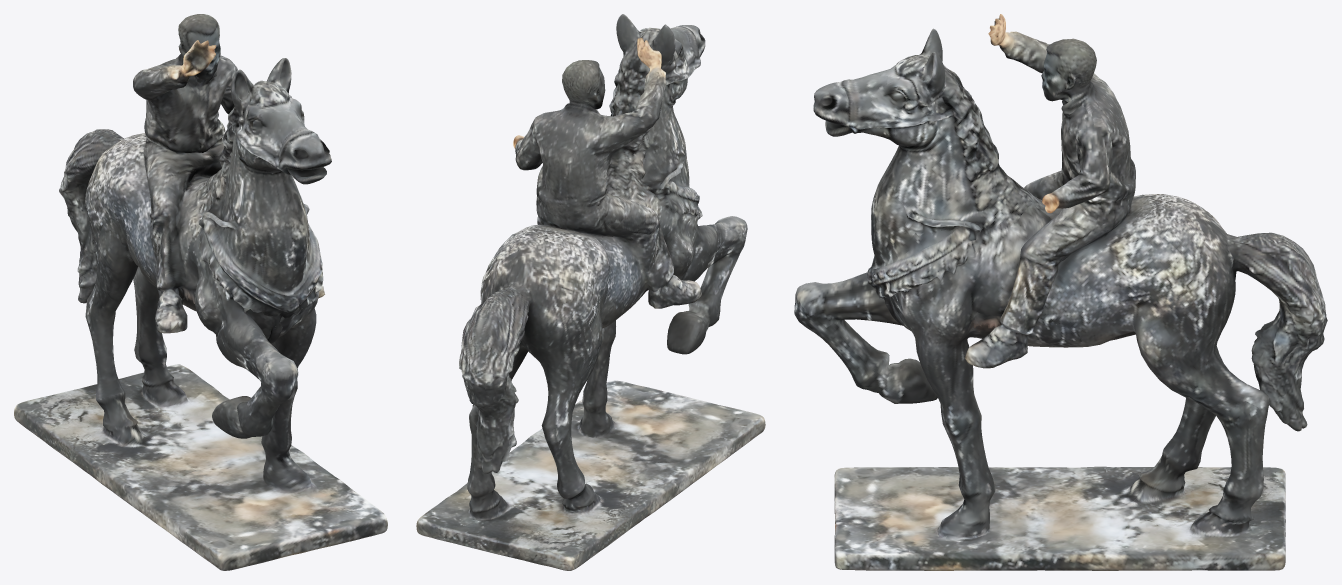
The model's file is base_high_shaded.fbx.
3 views of the same model, side by side, from view 1: azimuth 30°, elevation 25°; view 2: azimuth 150°, elevation 25°; view 3: azimuth 270°, elevation 25° (orthographic). The views are drawn at different scales.
Visible parts, largest first — view 1: model; view 2: model; view 3: model.
Boxes of the visible parts, x1,y1,x2,y2 form: model: [14, 14, 387, 570]; model: [416, 14, 765, 570]; model: [794, 14, 1327, 570].
Size of the model in its own units: 70.28 by 180 by 175.
